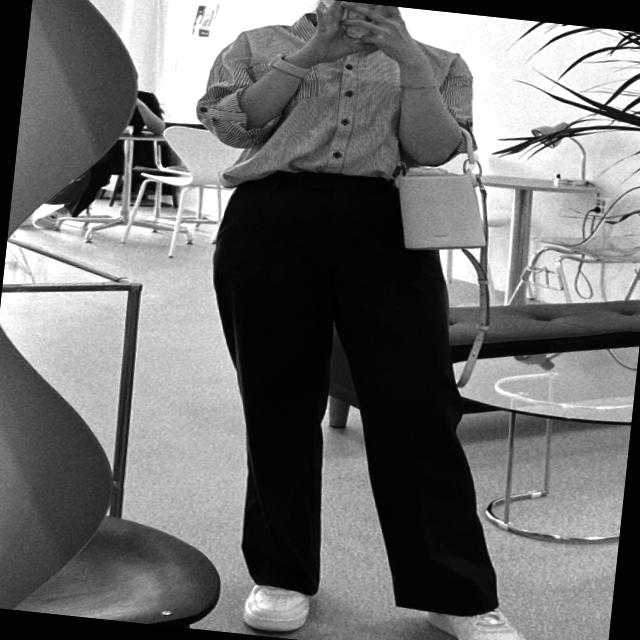shirt: (188, 5, 481, 214)
slacks: (175, 166, 533, 619)
